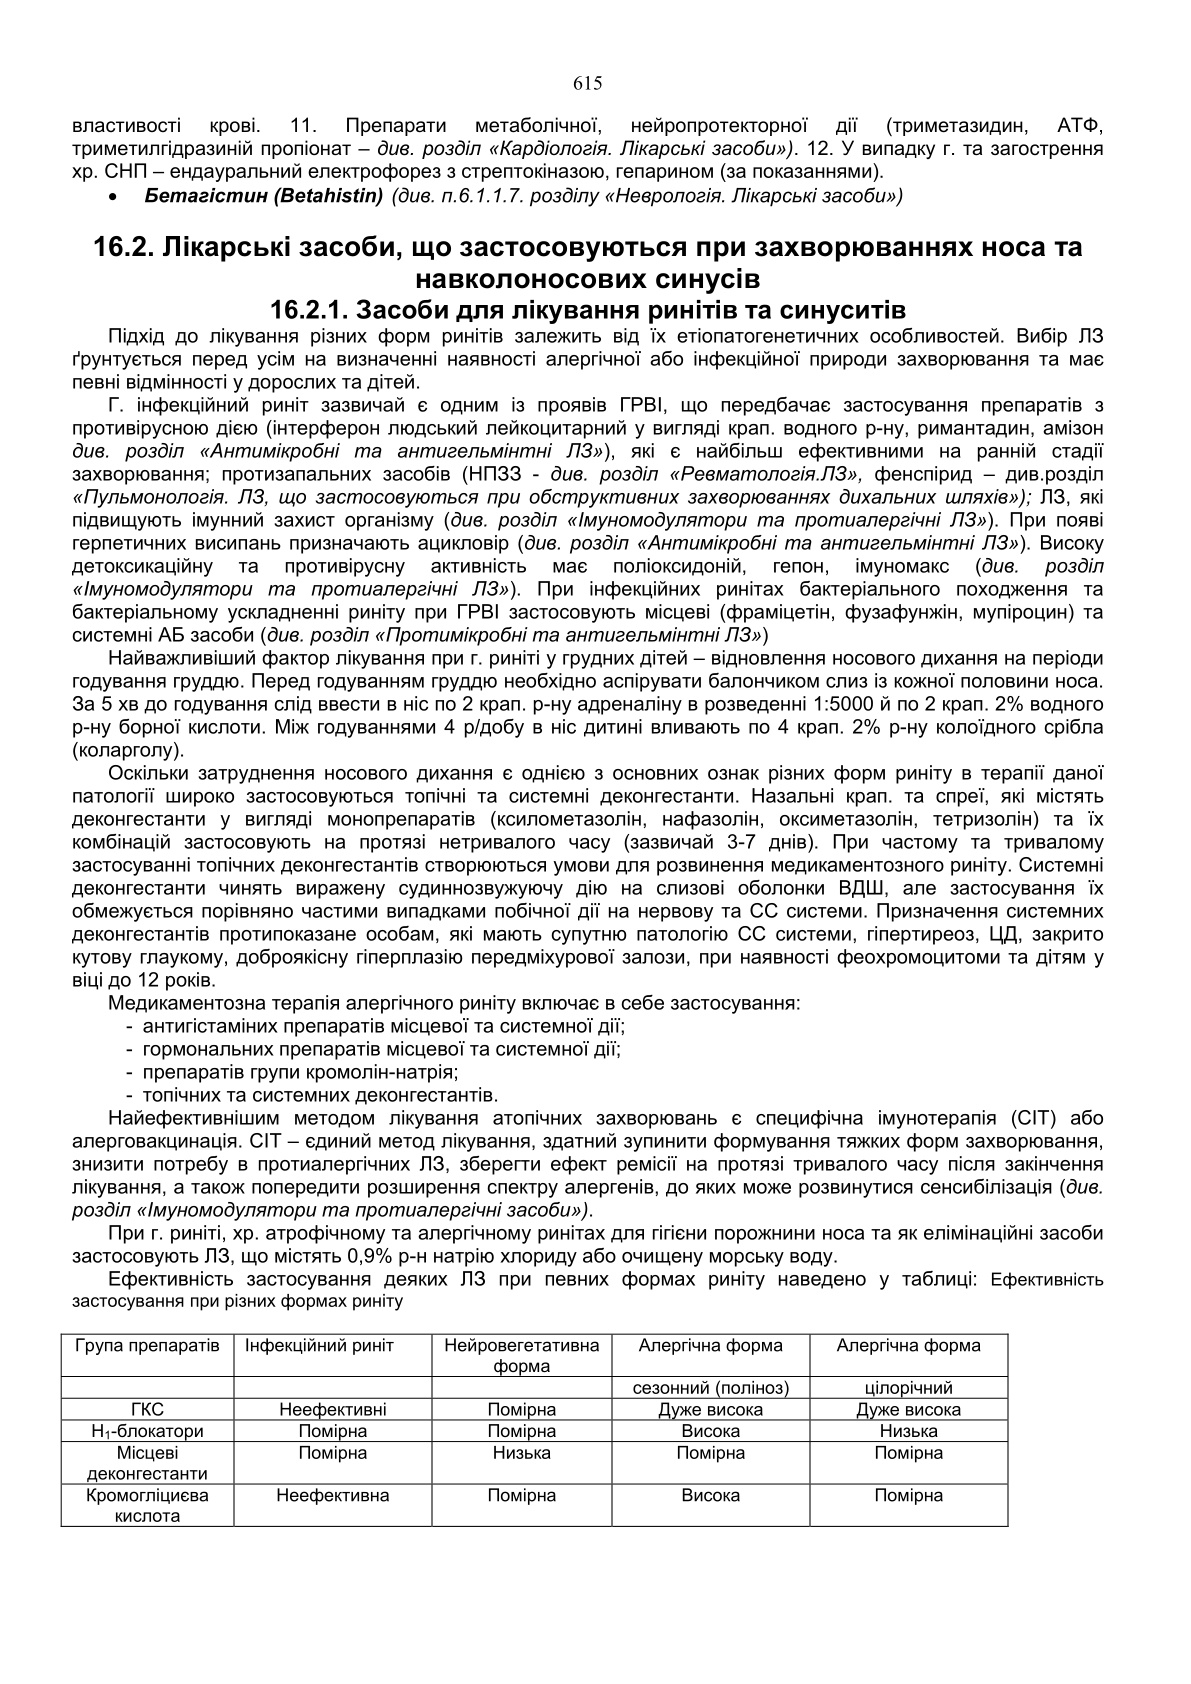full_lined: (59, 1334, 1009, 1527)
